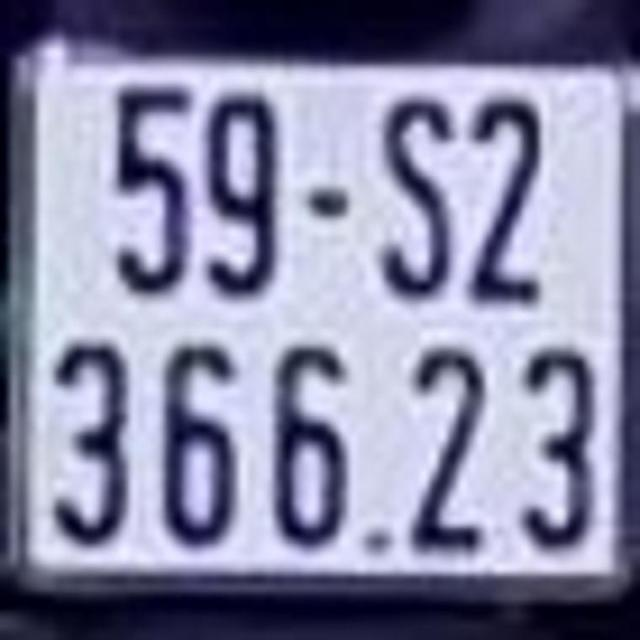2: (408, 340, 487, 554), (468, 93, 545, 307)
3: (48, 335, 132, 548), (519, 341, 597, 550)
5: (110, 77, 194, 297)
6: (160, 337, 240, 548), (271, 338, 350, 548)
9: (202, 82, 282, 301)
S: (376, 90, 459, 299)
